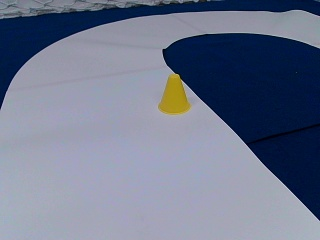cone: (158, 74, 190, 114)
